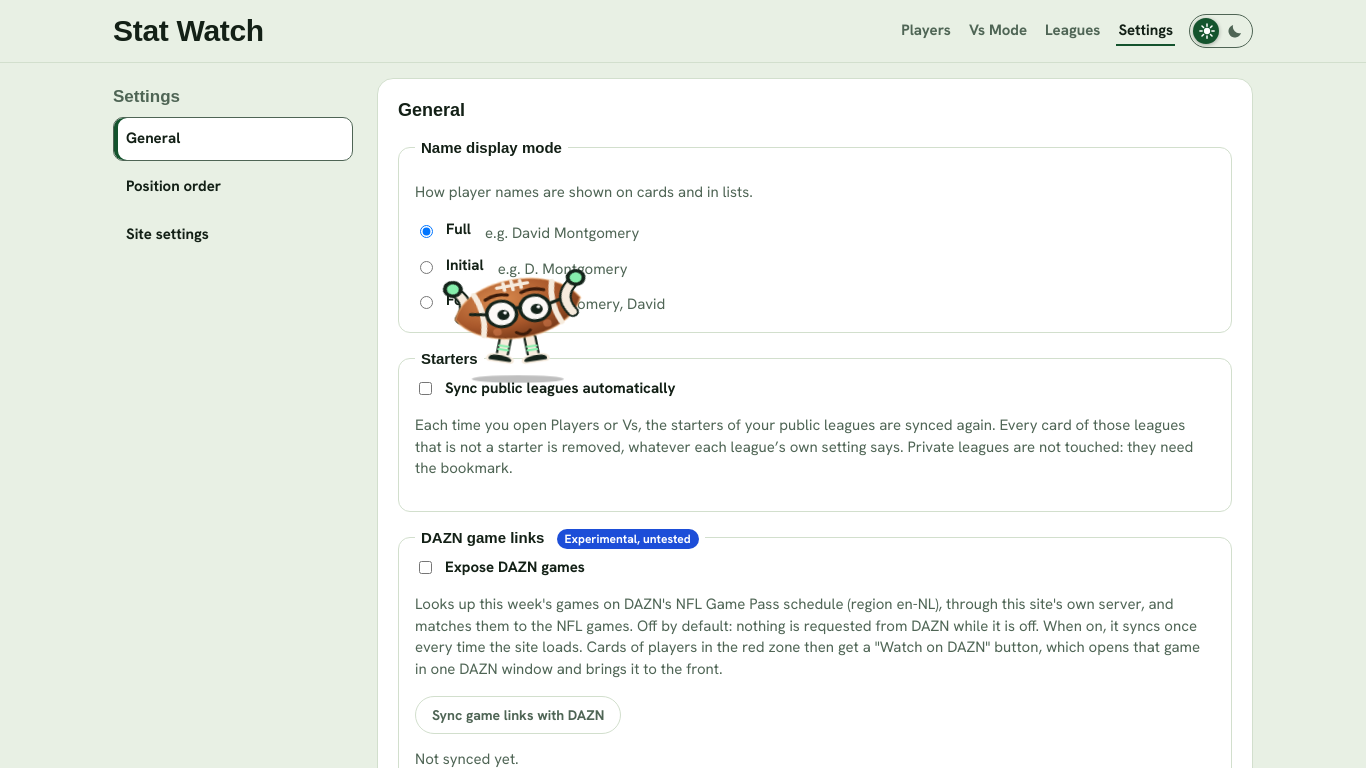
it: rookie camp › the welcome › is not made, and cannot be started from Settings, with the mascot off
The image size is (1366, 768).
Click the button "Site settings" at (233, 234), box 113,212 -> 353,256
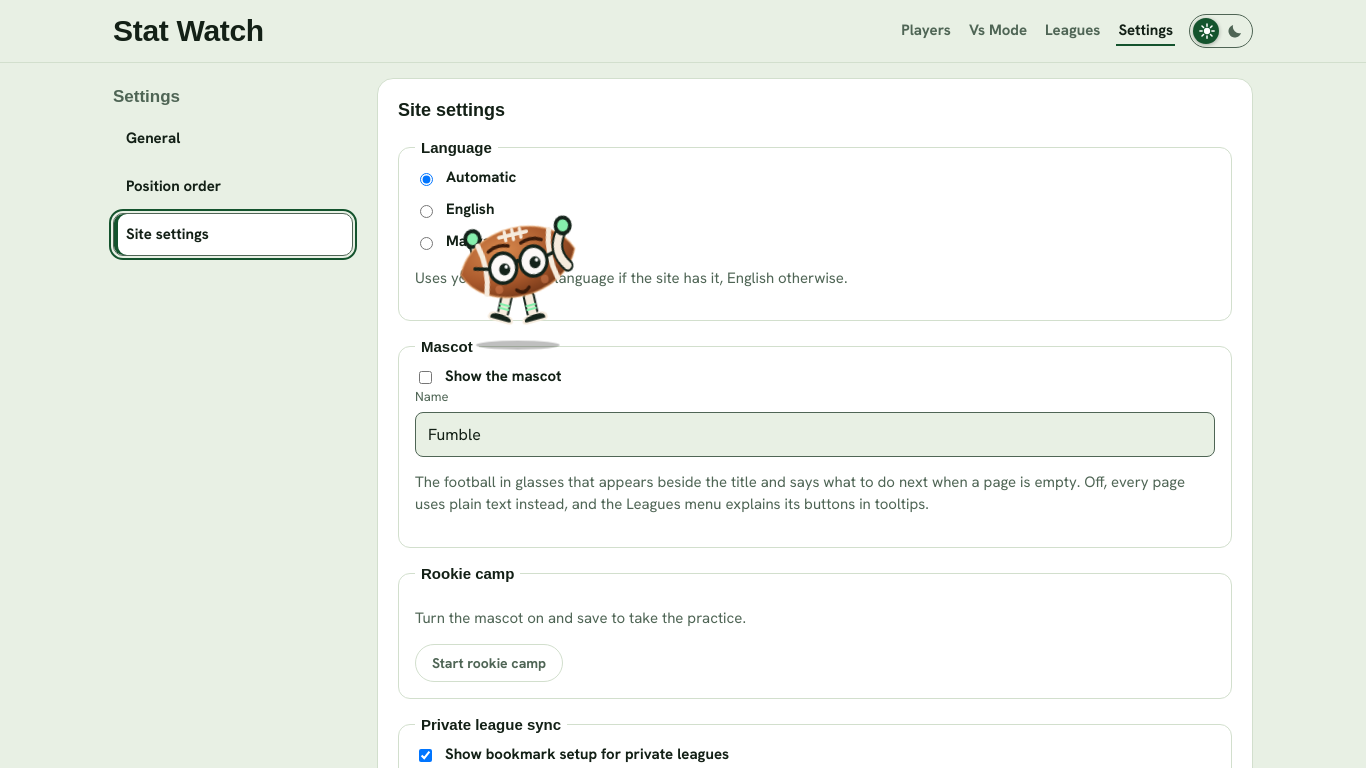
Now the button "Start rookie camp" is disabled, box 415,644 -> 563,682
